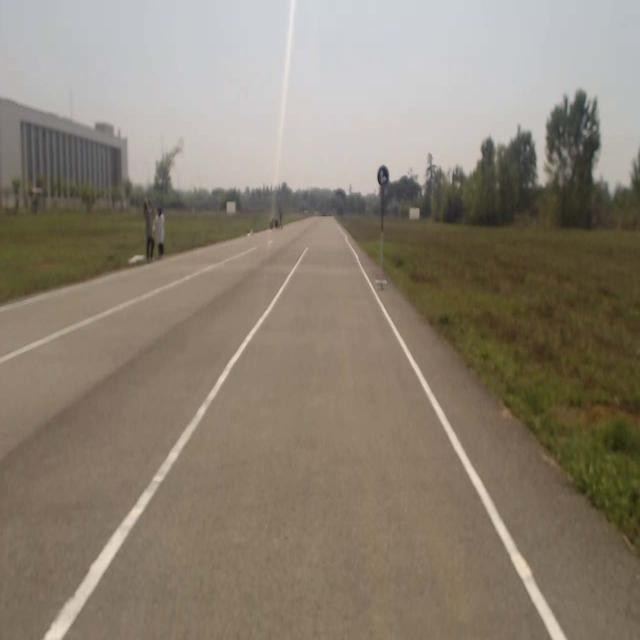ilerisag: (377, 165, 389, 186)
